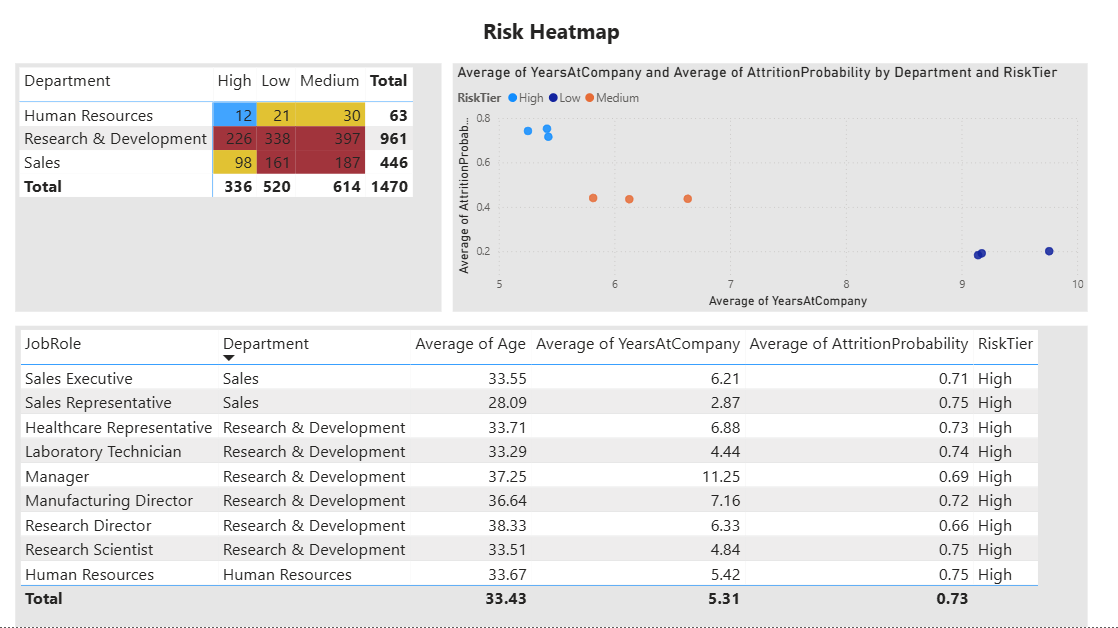

The page's visual inventory and layout, read from the dashboard file:
{"tool":"powerbi","page":{"name":"Page 3","canvas":[1280,720],"ordinal":2},"visuals":[{"type":"pivotTable","fields":{"Rows":["hr_scored.Department"],"Columns":["hr_scored.RiskTier"],"Values":["hr_scored.Total Employees"]},"box":[19.2,75.5,487.1,284],"z":0},{"type":"scatterChart","fields":{"X":["Avg(hr_scored.YearsAtCompany)"],"Y":["Avg(hr_scored.AttritionProbability)"],"Series":["hr_scored.RiskTier"],"Category":["hr_scored.Department"]},"box":[518.7,75.5,725.9,284],"z":1000},{"type":"tableEx","fields":{"Values":["hr_scored.JobRole","hr_scored.Department","Avg(hr_scored.Age)","Avg(hr_scored.YearsAtCompany)","Avg(hr_scored.AttritionProbability)","hr_scored.RiskTier"]},"box":[19.2,376,1225.4,344.4],"z":2000},{"type":"textbox","box":[19.2,0,1225.4,75.5],"z":3000}]}

Visuals, with their boxes in screenshot pixels (x1, y1, x2, y2), scaled from the page's 1280x720 canvas onto the 1118x628 screenshot:
pivotTable - hr_scored.Department x hr_scored.RiskTier: x1=17, y1=66, x2=442, y2=314
scatterChart - Avg(hr_scored.YearsAtCompany) x Avg(hr_scored.AttritionProbability): x1=453, y1=66, x2=1087, y2=314
tableEx - hr_scored.JobRole x hr_scored.Department: x1=17, y1=328, x2=1087, y2=627
textbox: x1=17, y1=0, x2=1087, y2=66
